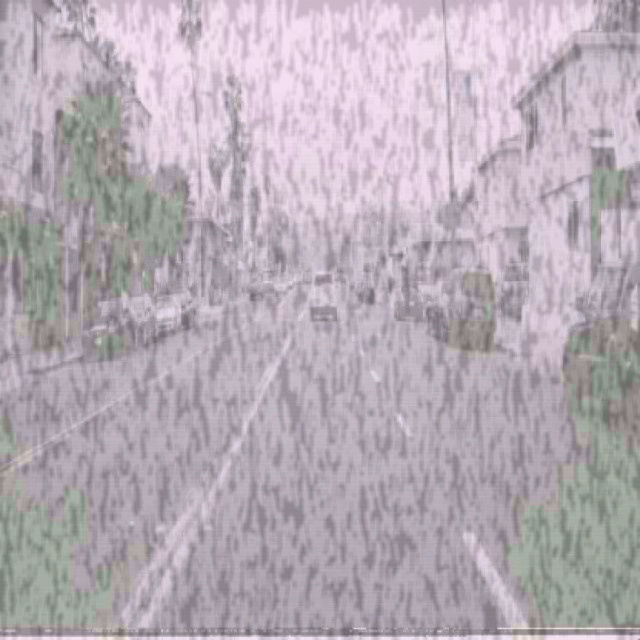pedestrianCrossing: (468, 189, 485, 224)
